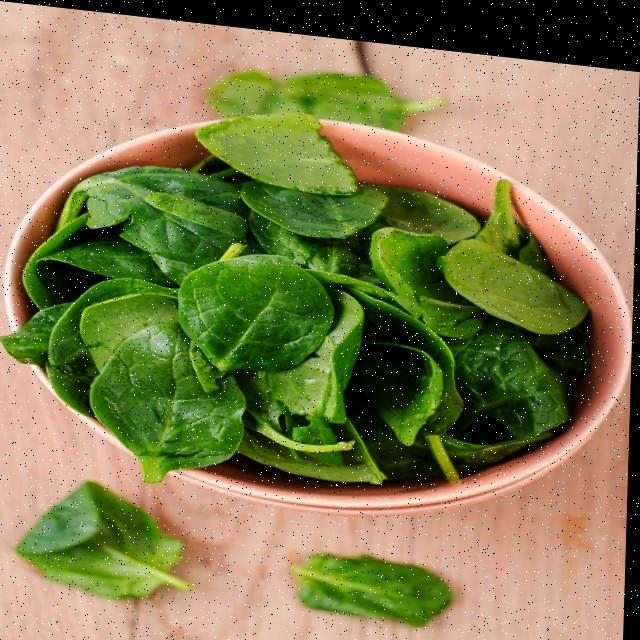Spinach: (0, 76, 619, 526)
